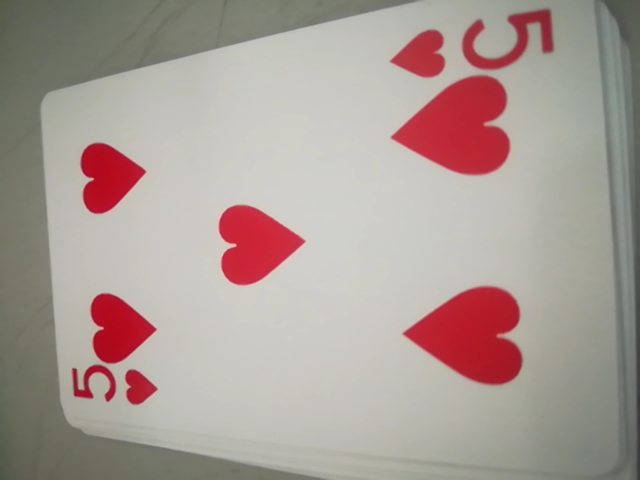hx 5: (388, 4, 560, 84), (67, 359, 159, 417)
